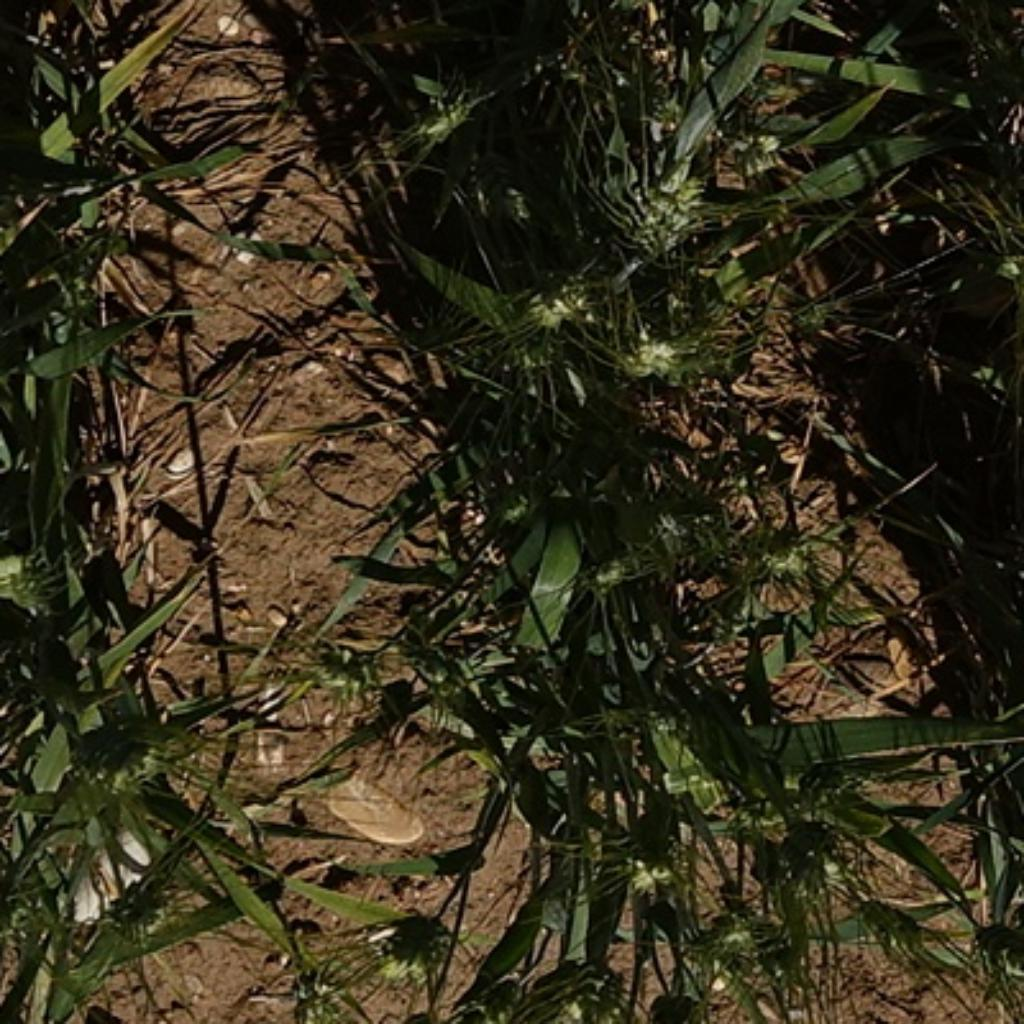0-0: (619, 268, 744, 394), (716, 478, 834, 599), (601, 814, 729, 924), (596, 135, 711, 256), (632, 458, 747, 573), (89, 837, 212, 942), (236, 622, 368, 719), (698, 71, 801, 179), (514, 248, 627, 335), (381, 624, 488, 714), (683, 906, 785, 1000), (541, 935, 648, 1024), (755, 827, 872, 908), (466, 434, 563, 530), (64, 696, 166, 785), (1, 537, 79, 634), (409, 74, 494, 163), (371, 903, 450, 988), (450, 961, 537, 1023), (570, 542, 665, 593), (968, 917, 1024, 1000), (783, 292, 843, 344)
